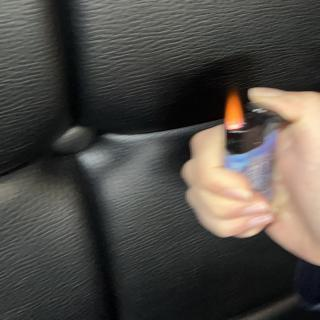fire: (224, 88, 247, 134)
